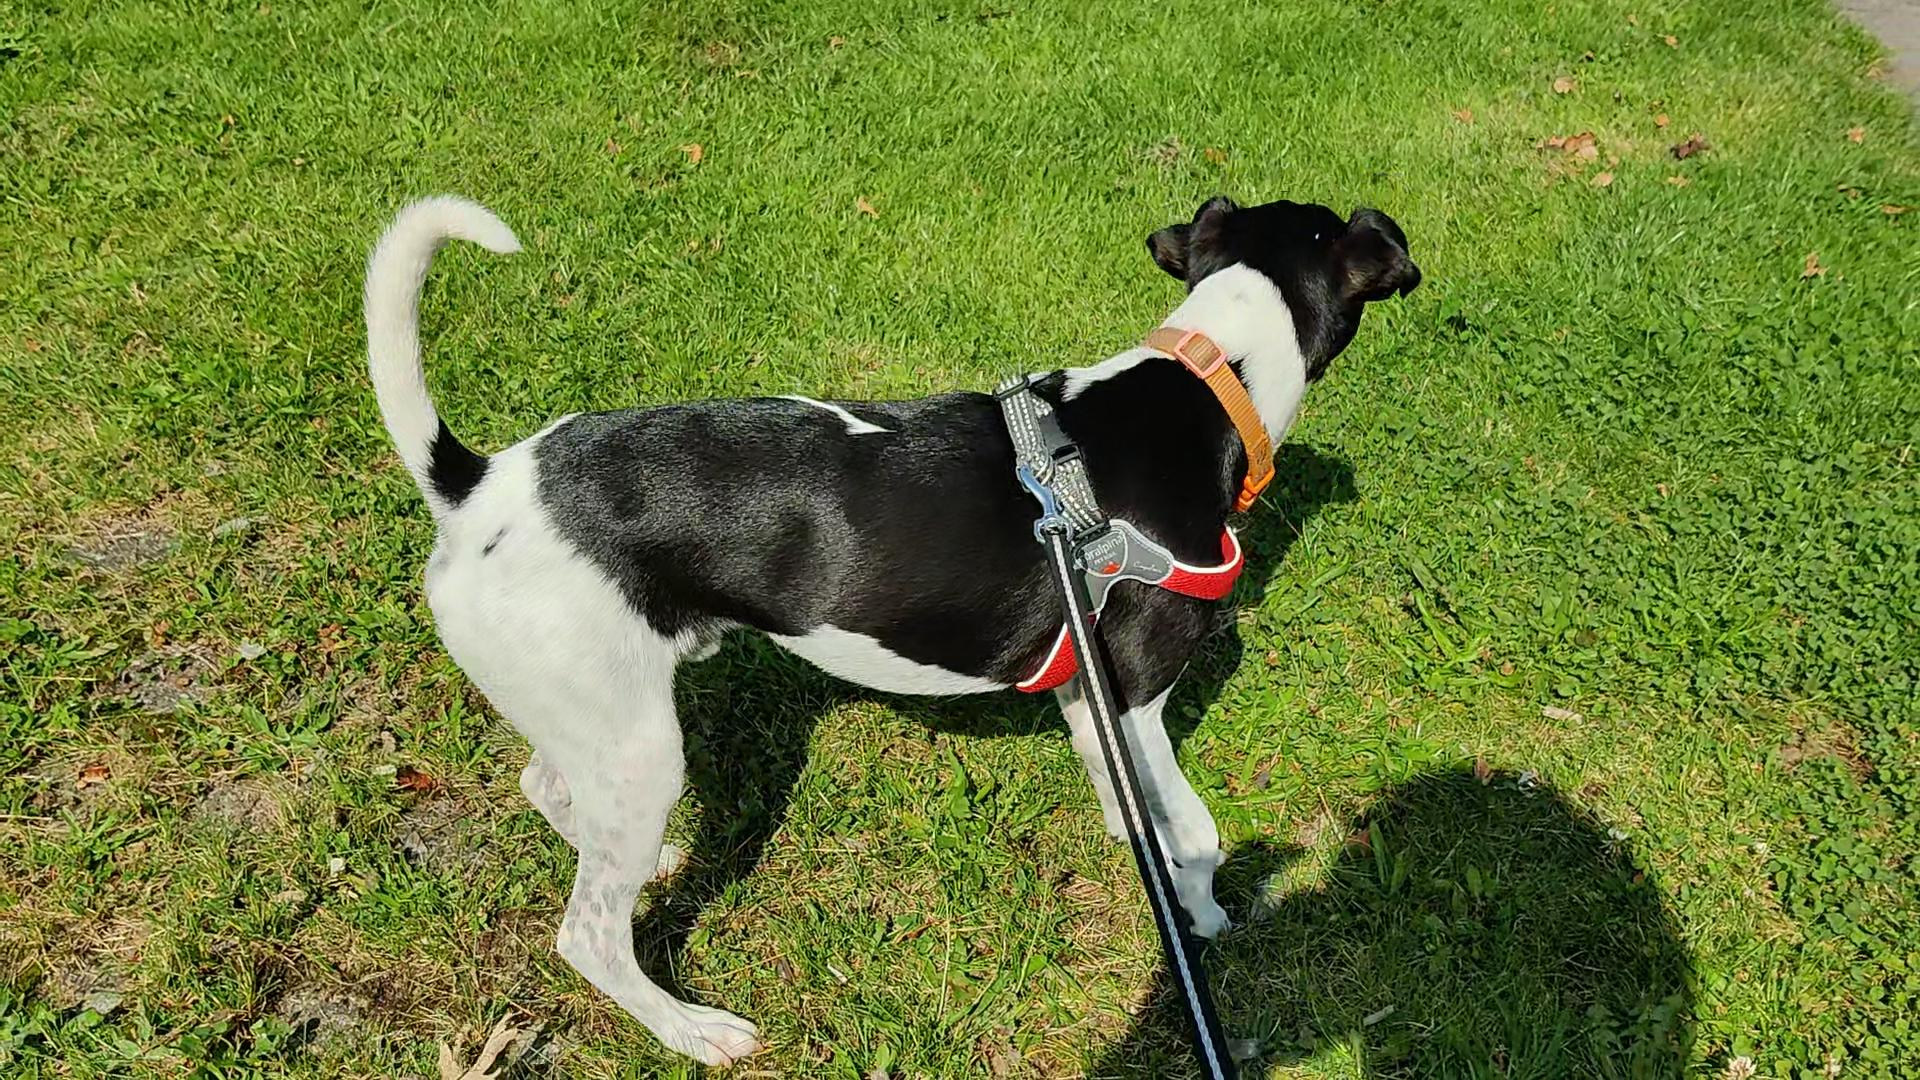Dog: (356, 194, 1432, 1065)
